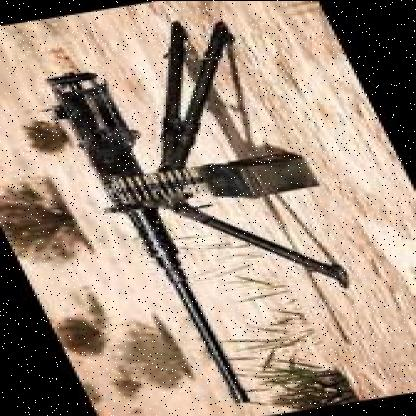rifle: (37, 68, 277, 391)
